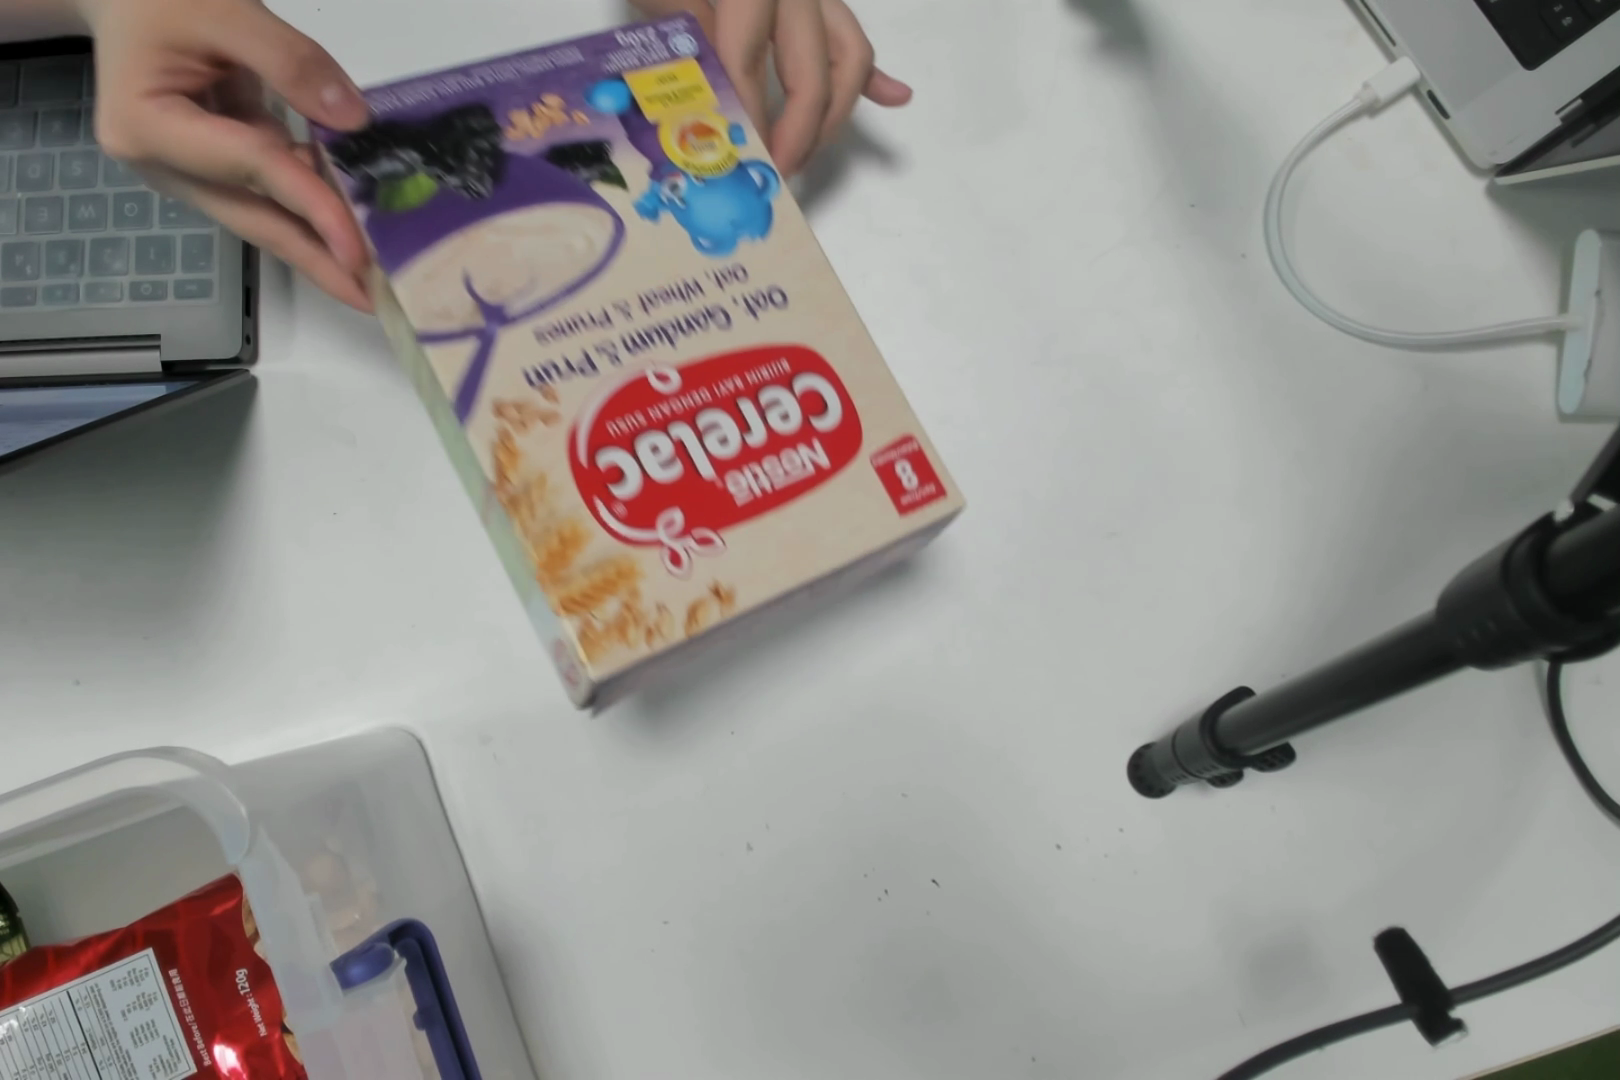d: (341, 42, 774, 634)
